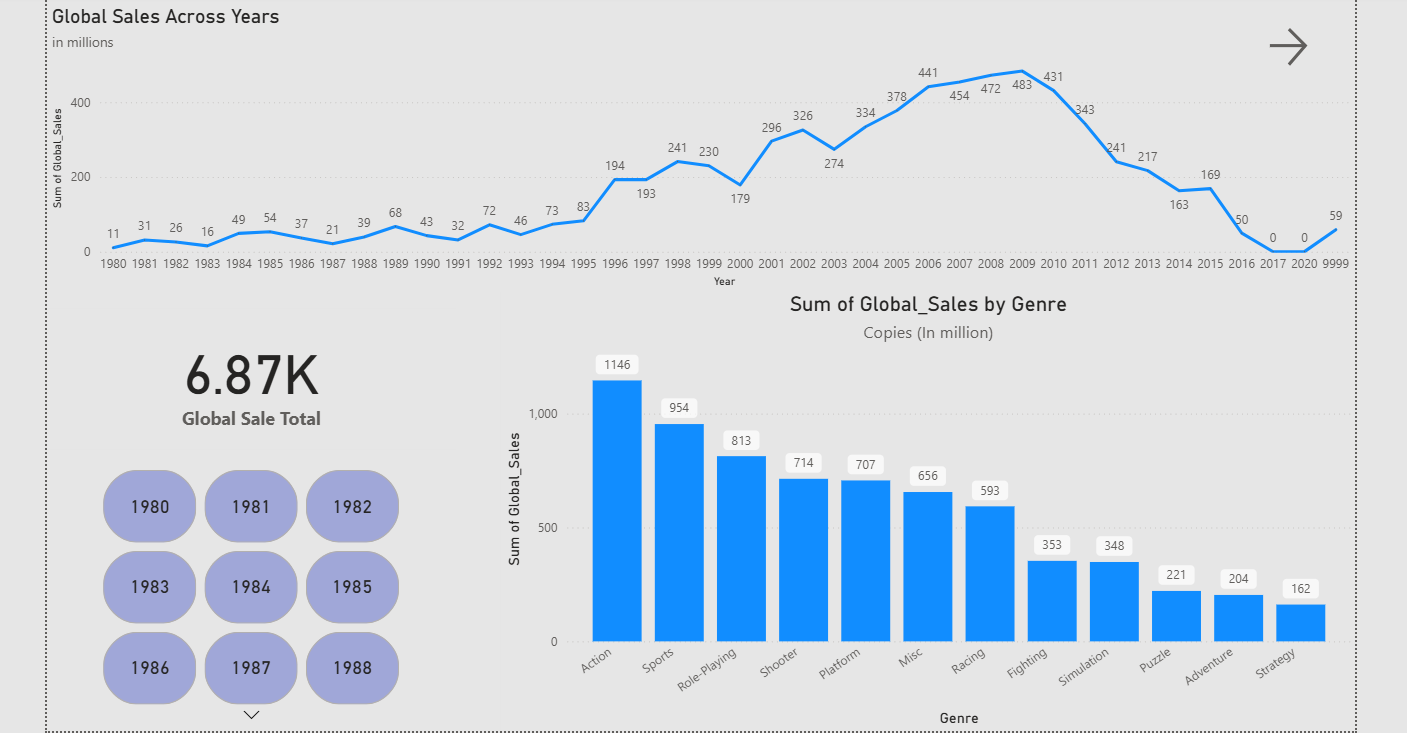

The page's visual inventory and layout, read from the dashboard file:
{"tool":"powerbi","page":{"name":"Page 1","canvas":[1280,720],"ordinal":0},"visuals":[{"type":"lineClusteredColumnComboChart","fields":{"Category":["vgsales.Genre"],"Y":["Sum(vgsales.Global_Sales)"]},"box":[443.4,289.7,836.9,429.9],"z":0},{"type":"advancedSlicerVisual","fields":{"Values":["vgsales.Year"]},"box":[50.1,420.7,300.8,299.6],"z":1000},{"type":"lineChart","title":"Global Sales Across Years","fields":{"Y":["Sum(vgsales.Global_Sales)"],"Category":["vgsales.Year"]},"box":[0,9.4,1280.3,280.8],"z":2000},{"type":"card","fields":{"Values":["vgsales.Global Sale Total"]},"box":[0,307.3,400.3,137.5],"z":3000}]}

Visuals, with their boxes on the page's 1280x720 design canvas (x1, y1, x2, y2). These are canvas units, not pixel positions in the 1407x733 screenshot, which may show the page scaled, cropped or inside an application window:
lineClusteredColumnComboChart - vgsales.Genre x Sum(vgsales.Global_Sales): (left=443, top=290, right=1280, bottom=720)
advancedSlicerVisual - vgsales.Year: (left=50, top=421, right=351, bottom=720)
"Global Sales Across Years" lineChart: (left=0, top=9, right=1280, bottom=290)
card - vgsales.Global Sale Total: (left=0, top=307, right=400, bottom=445)
